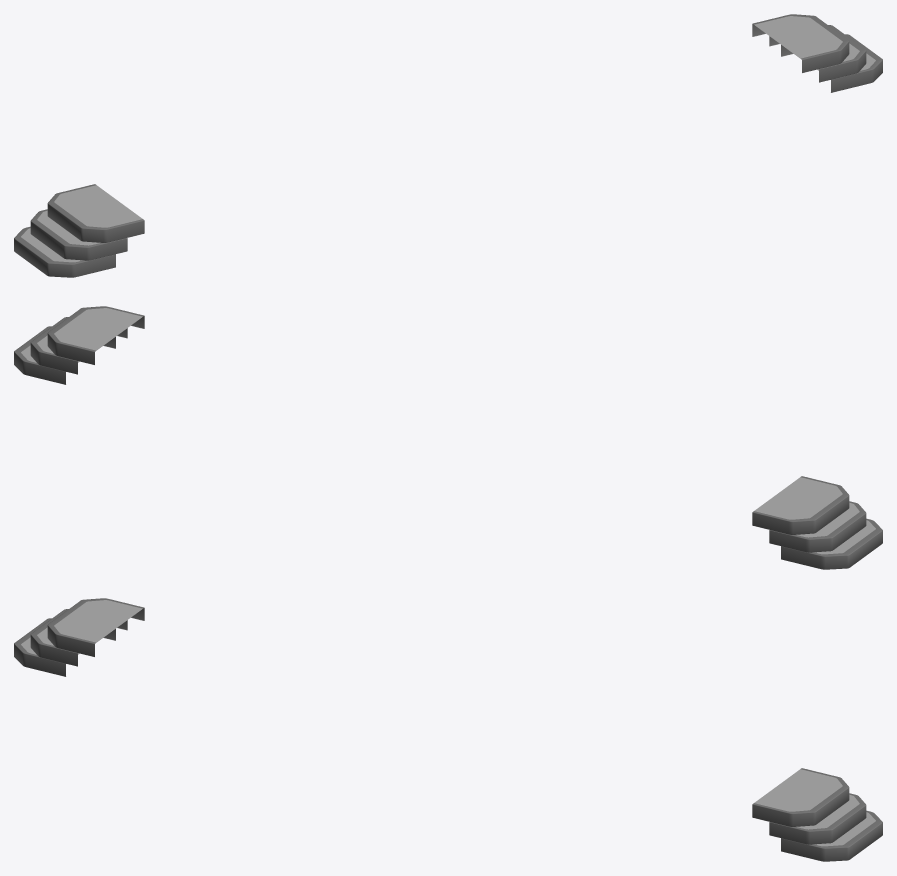
The model's file is Stairs.fbx.
3 views of the same model, one above another, from view 1: azimuth 30°, elevation 25°; view 2: azimuth 150°, elevation 25°; view 3: azimuth 330°, elevation 25° (orthographic).
Visible parts, largest first — view 1: Stairs; view 2: Stairs; view 3: Stairs.
Boxes of the visible parts, left/top/right/bottom form: Stairs: left=14, top=14, right=882, bottom=277; Stairs: left=14, top=306, right=882, bottom=569; Stairs: left=14, top=598, right=882, bottom=861.
Bounding box in the file's own units: 1139 × 52.44 × 118.
1 material, 1 textured.
